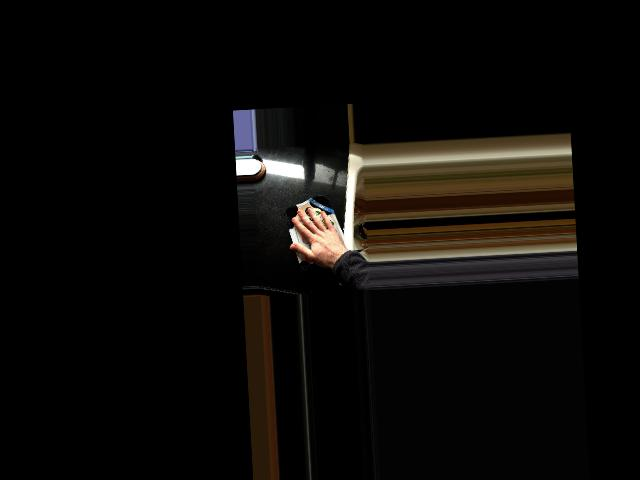cheese: (282, 192, 352, 272)
